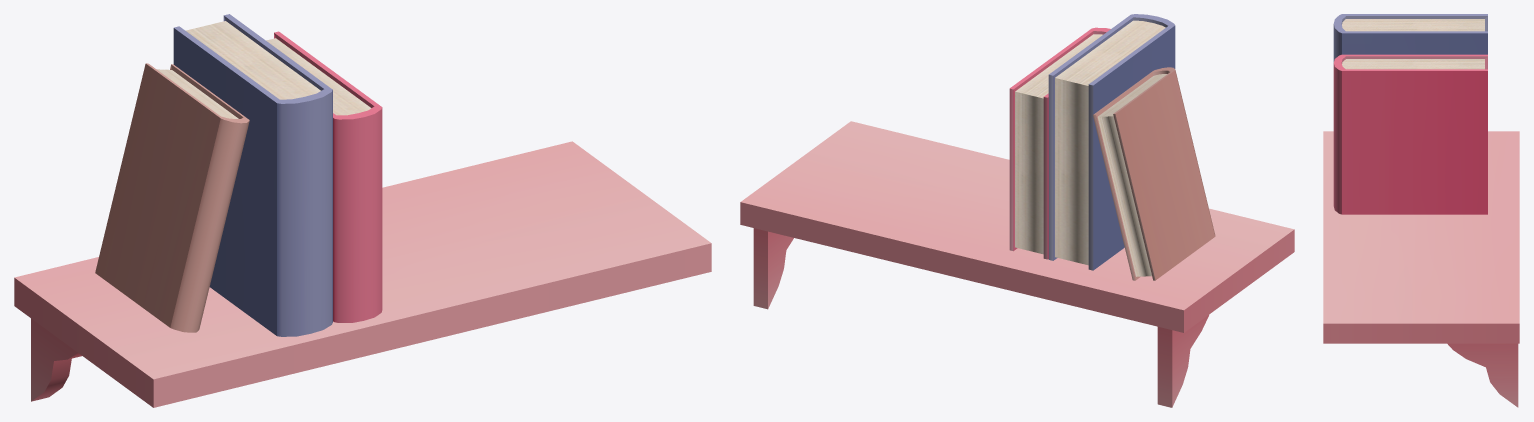
The model's file is Doll_OB_Shelf_007.FBX.
3 renders of one model, left to right at view 1: azimuth 30°, elevation 25°; view 2: azimuth 150°, elevation 25°; view 3: azimuth 270°, elevation 25°, orthographic. The views are drawn at different scales.
Visible parts, largest first — view 1: Doll_OB_Shelf_007; view 2: Doll_OB_Shelf_007; view 3: Doll_OB_Shelf_007.
Boxes of the visible parts, box(x1,y1,x2,y2) form: Doll_OB_Shelf_007: box(14, 14, 711, 407); Doll_OB_Shelf_007: box(740, 14, 1294, 407); Doll_OB_Shelf_007: box(1323, 14, 1519, 407).
Size of the model in its own units: 8.64 by 5.33 by 3.73.
